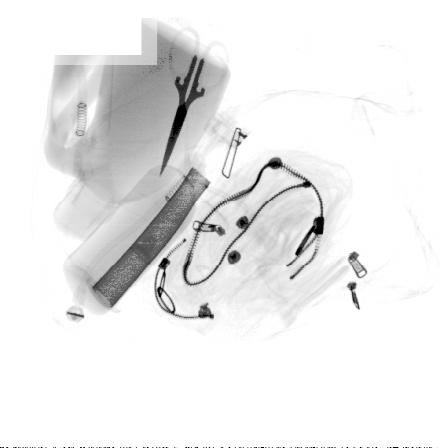Scissors: (158, 23, 232, 178)
